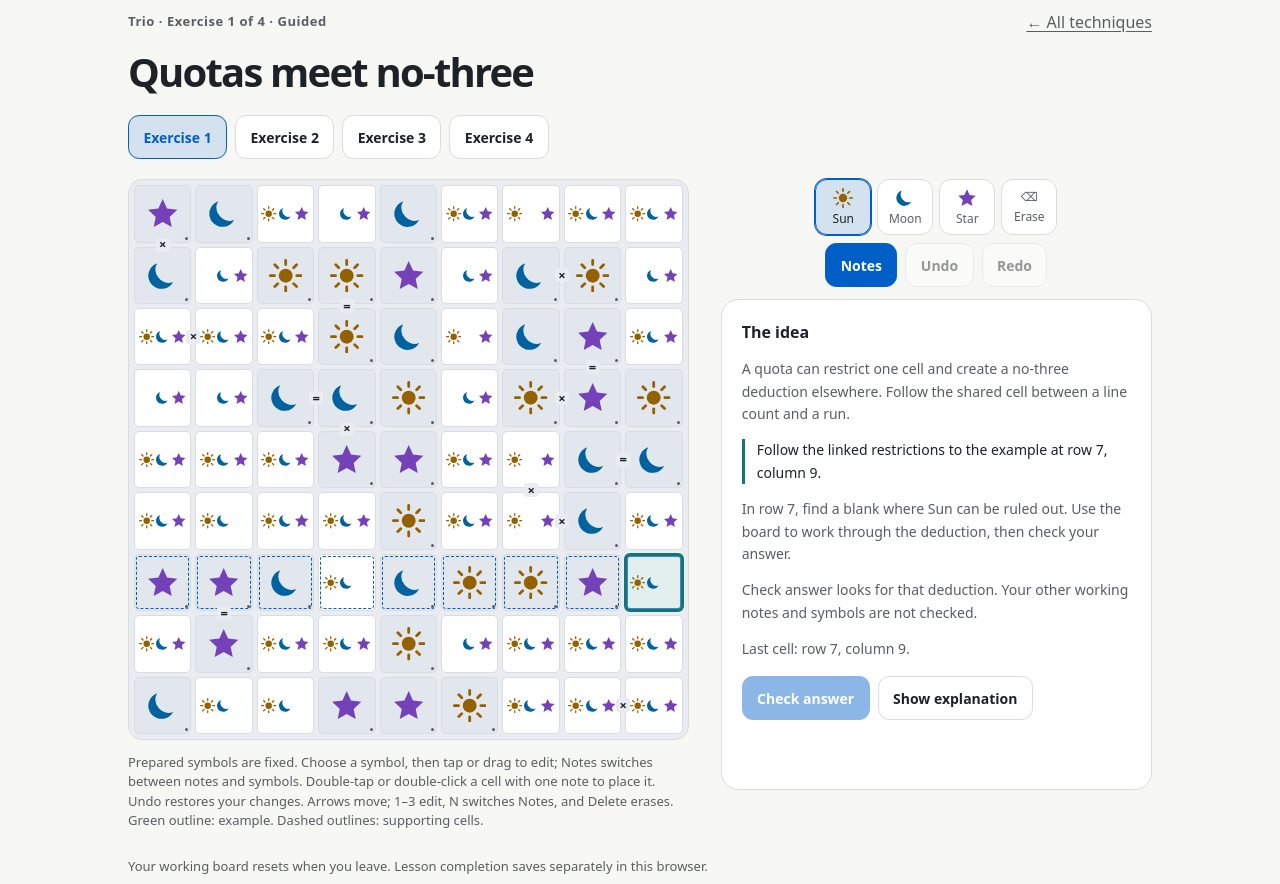
shows the named candidate removal on the board before checking trio-quota-no-three
Press 1 in the cell named "Row 7, column 9, Empty, notes Sun, Moon, hint target", box [625,554,683,611]
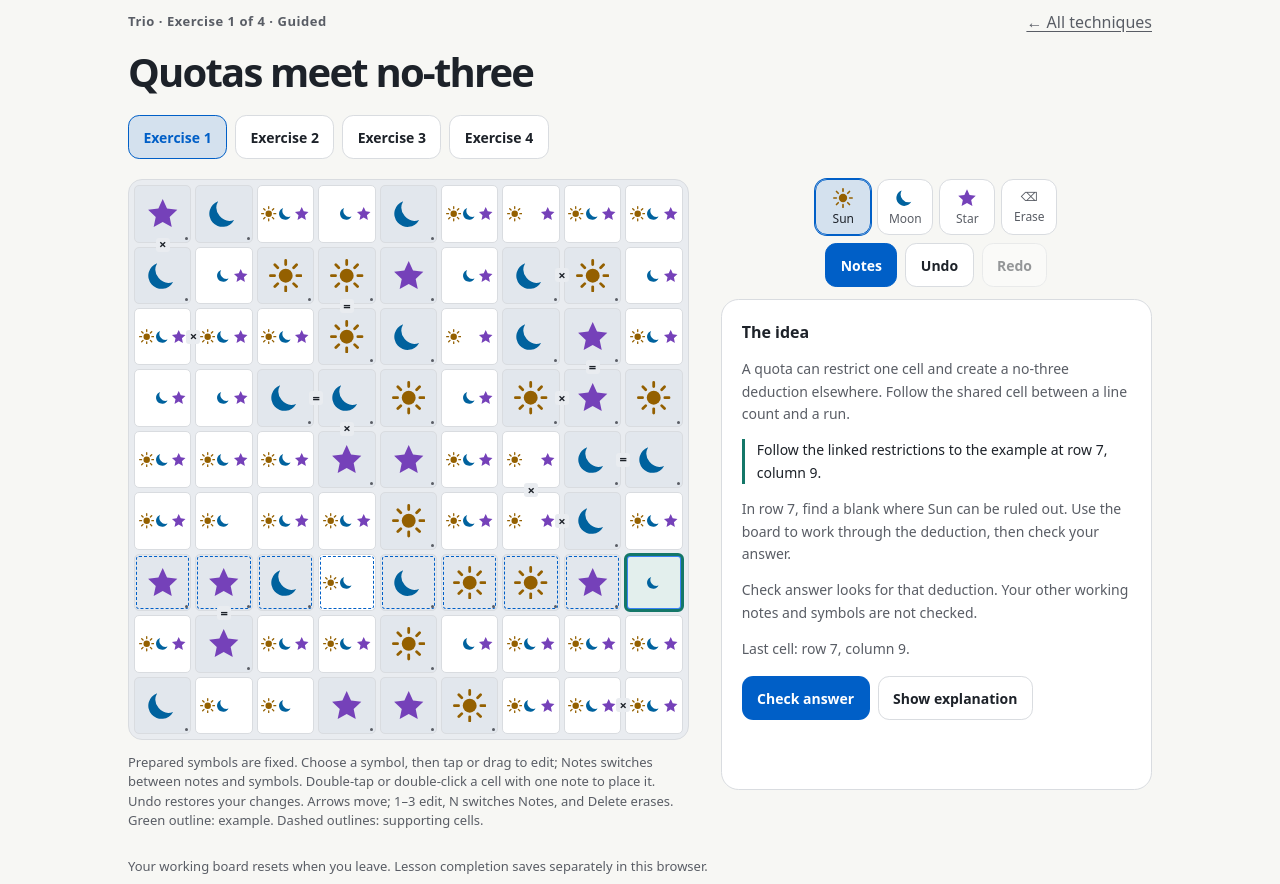
Click the button "Check answer" at x=806, y=698, box [742,676,870,720]
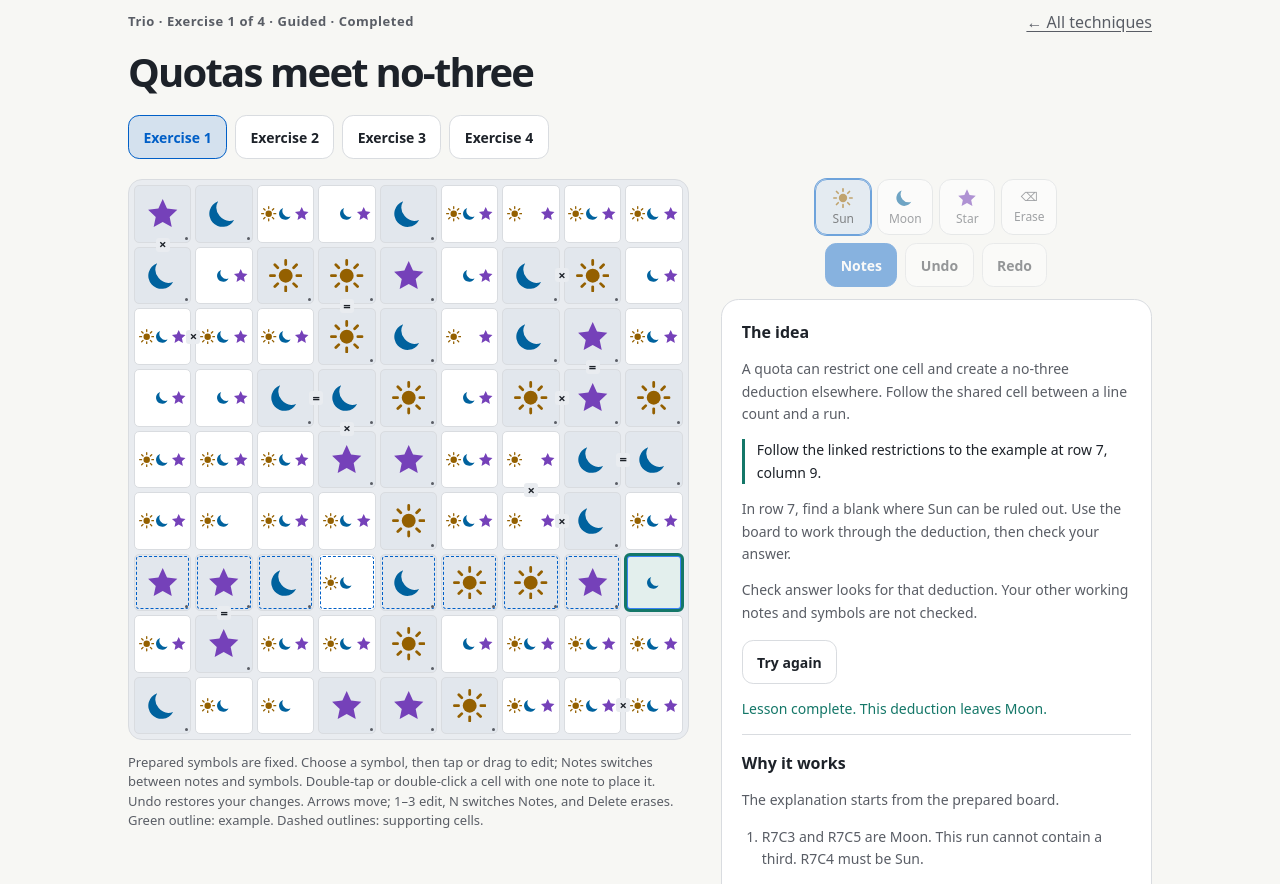
Result: the message "Lesson complete. This deduction leaves Moon." is shown at [742,699,1047,718]
